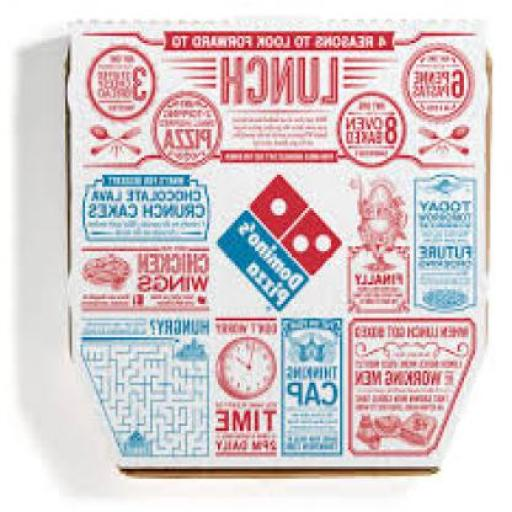cardboard: (68, 18, 494, 476)
